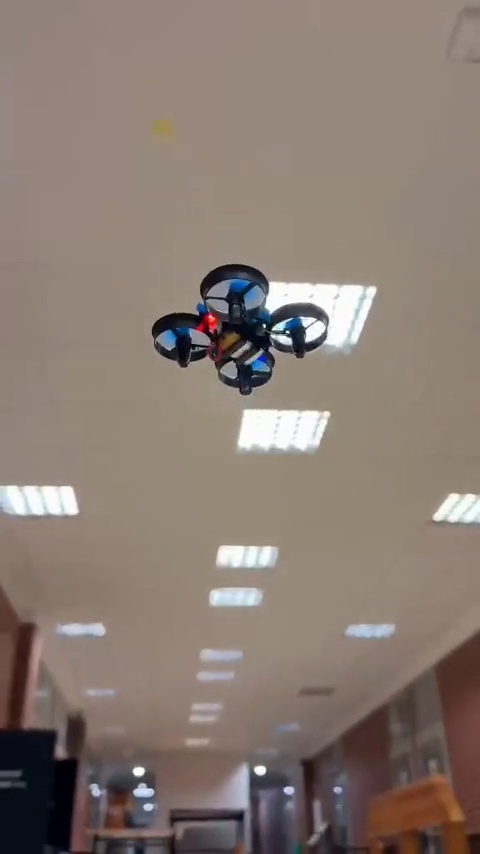drone: (152, 268, 333, 400)
